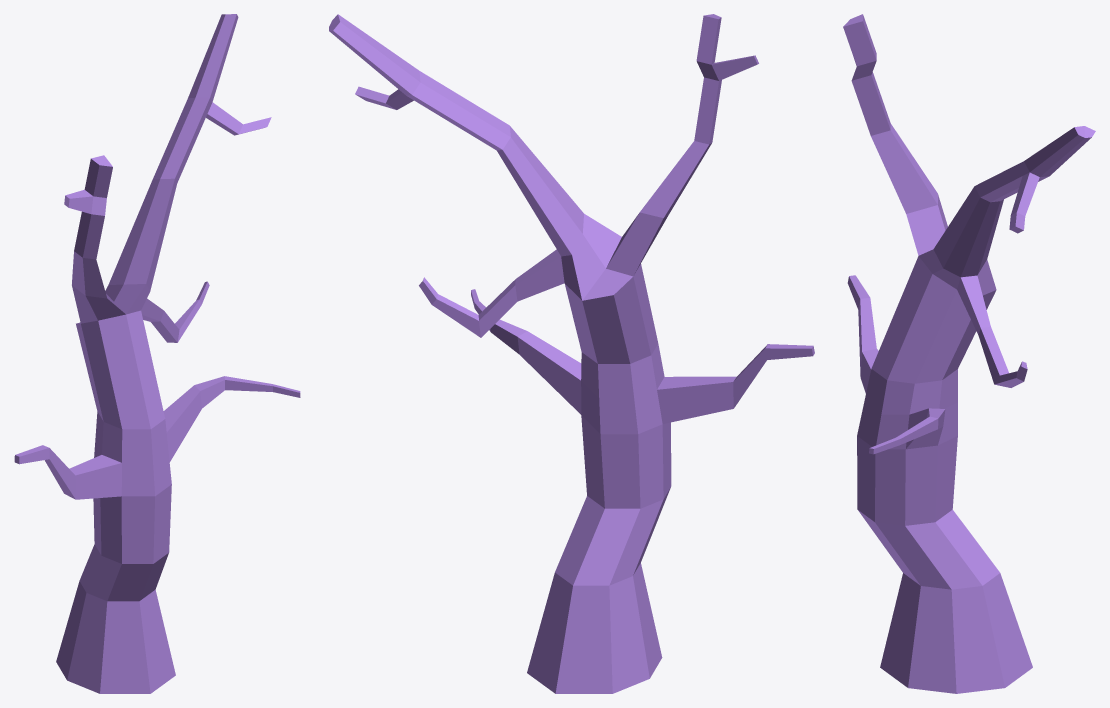
Rendered from 01_06Tree_Blue.fbx.
The picture shows the model from 3 angles, left to right: view 1: azimuth 30°, elevation 25°; view 2: azimuth 150°, elevation 25°; view 3: azimuth 270°, elevation 25°; orthographic projection. The views are drawn at different scales.
Visible parts, largest first — view 1: Cube.014; view 2: Cube.014; view 3: Cube.014.
Boxes of the visible parts, x1,y1,x2,y2 form: Cube.014: (14,14,300,693); Cube.014: (329,14,814,693); Cube.014: (843,14,1095,693).
Size of the model in its own units: 110 by 186 by 65.71.
